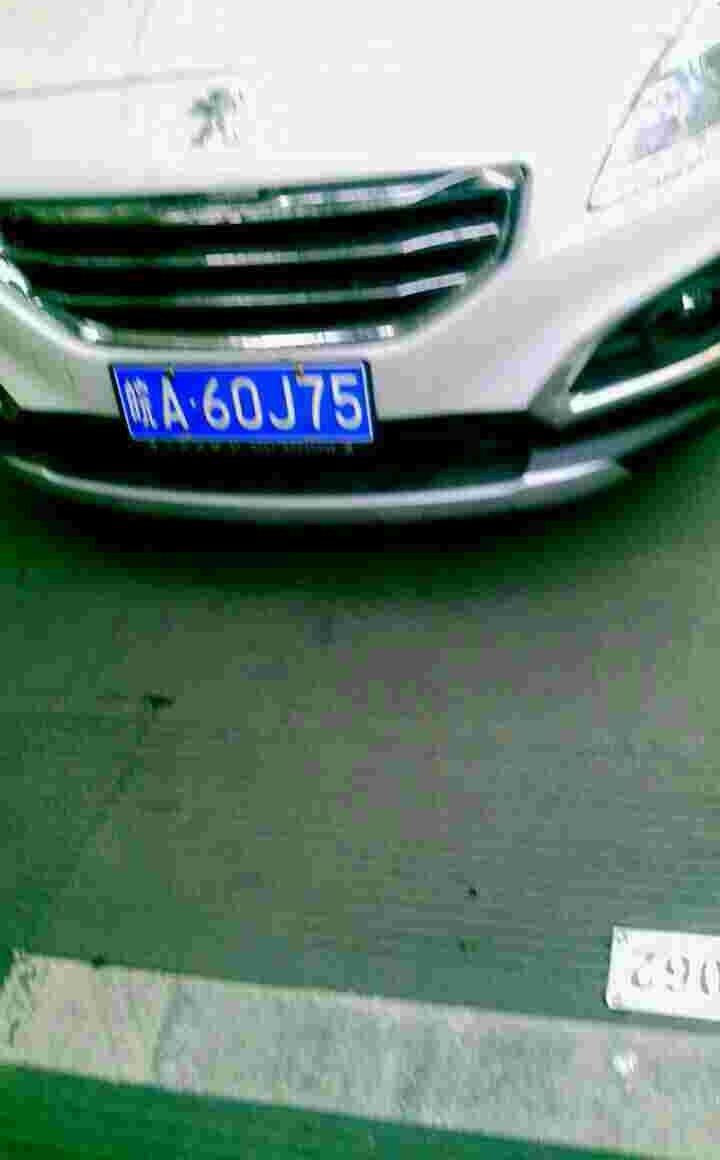license_plate: (118, 363, 378, 455)
